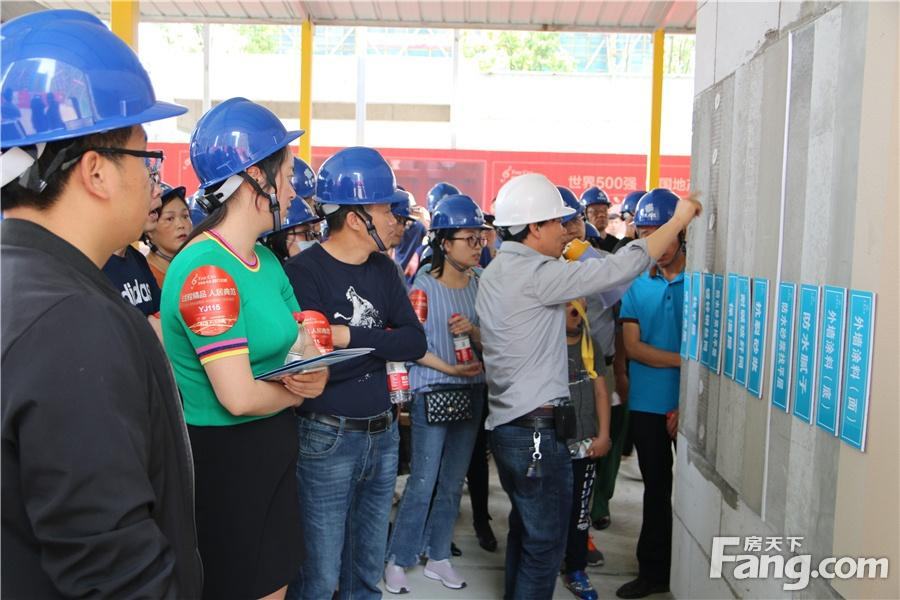Helmet: (190, 99, 292, 227), (316, 145, 399, 255)
